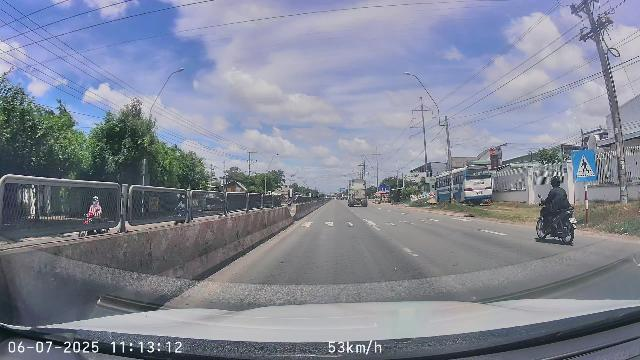423a-duong-nguoi-di-bo-sang-ngang-1: (572, 150, 597, 181)
